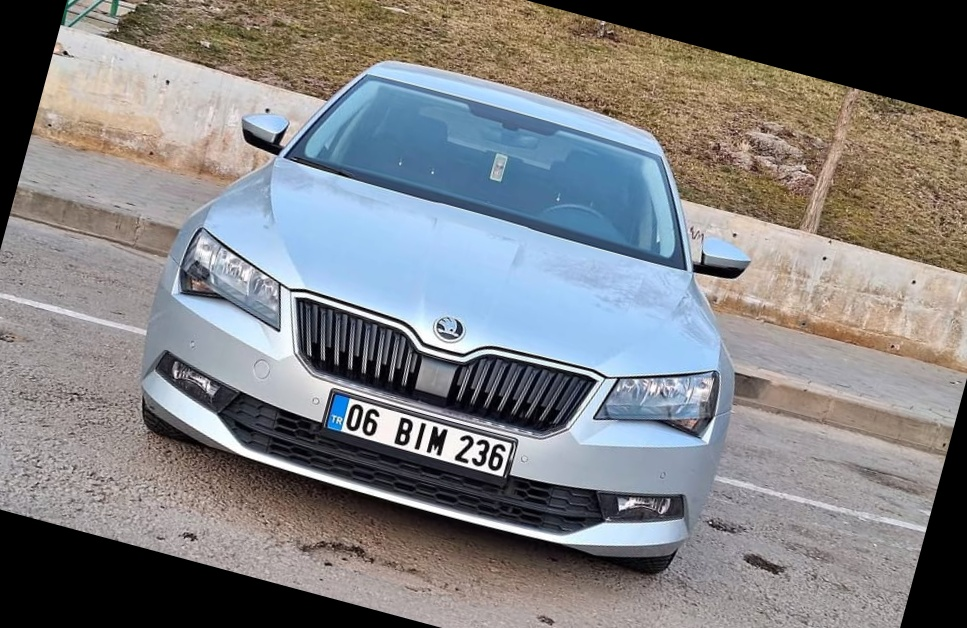plaka: (339, 391, 511, 480)
